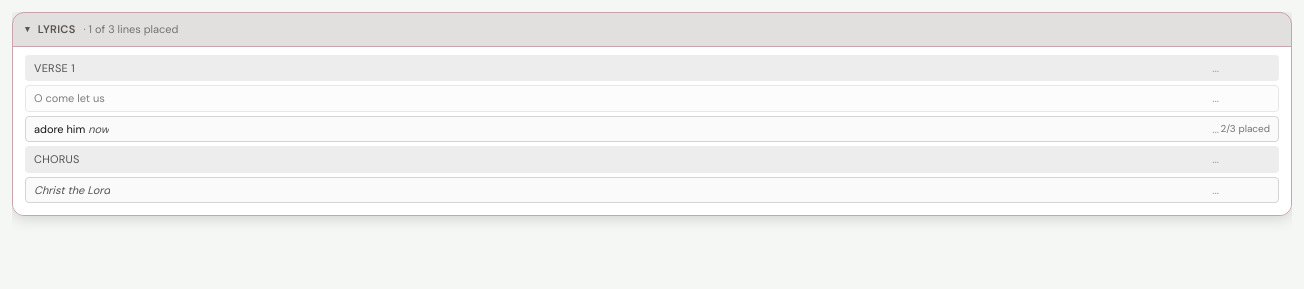
Test: LyricDrawer — header correction › offers "make lyric line" on a header row
Step 1. Click the button "…" in the row of "Verse 1" → point(1216, 68), box [1208,62,1223,74]
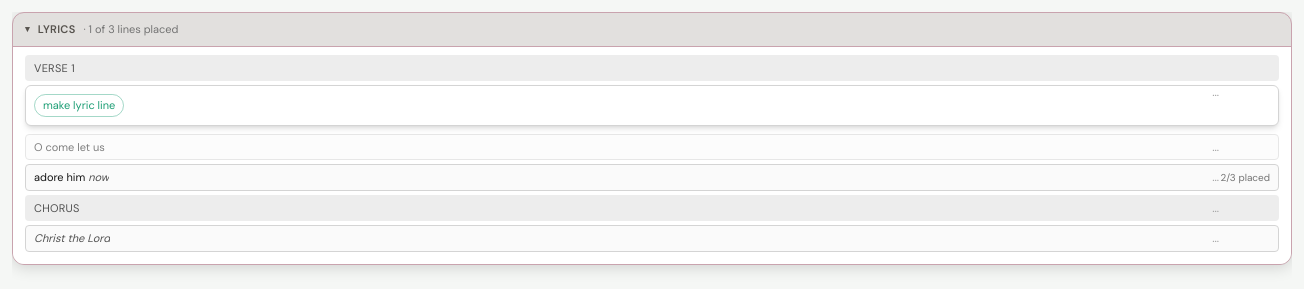
Check: the text "make lyric line" is shown, box [34,94,124,116]
